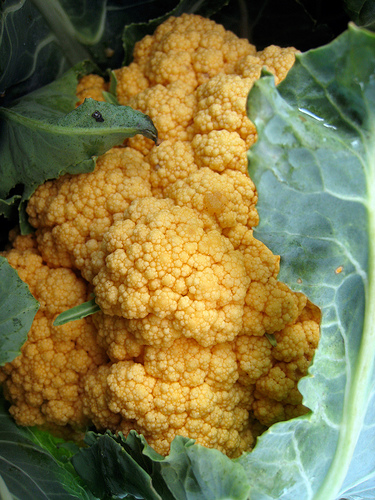cauliflower: (0, 16, 316, 497)
